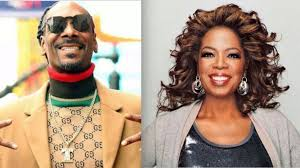black_male: (33, 1, 110, 77)
